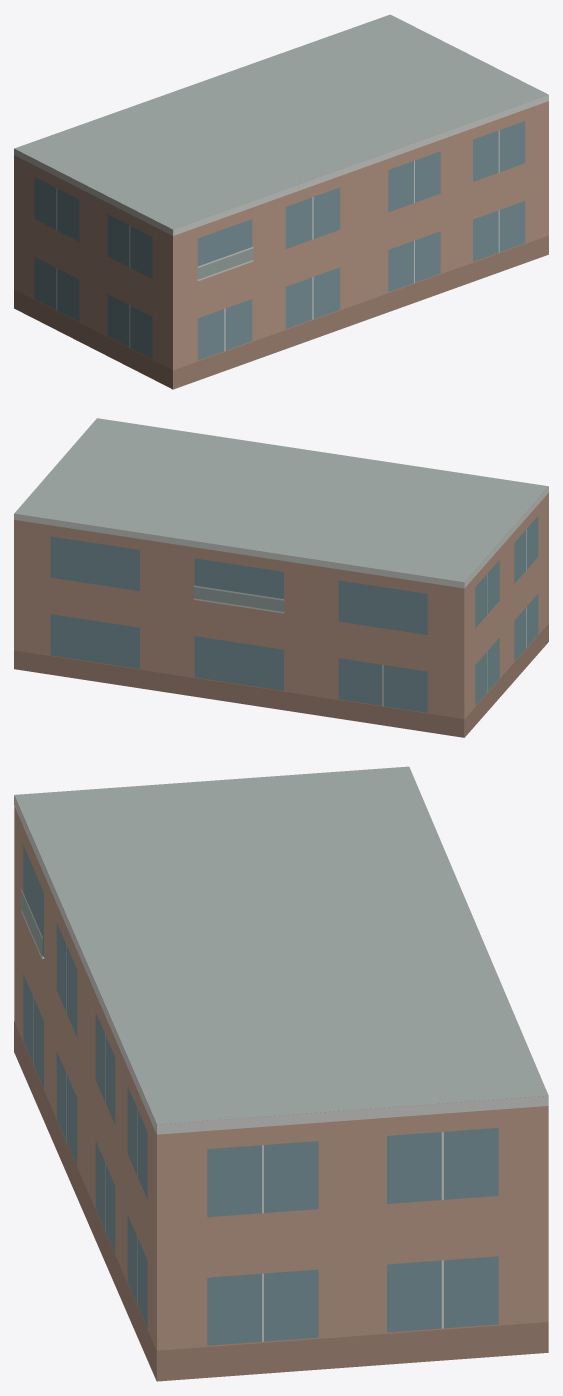
File: survey-upis-32944119.glb
3 renders of one model, top to bottom at view 1: azimuth 30°, elevation 25°; view 2: azimuth 150°, elevation 25°; view 3: azimuth 270°, elevation 25°, orthographic. The views are drawn at different scales.
Parts seen in each view (by area): view 1: survey-upis-32944119.tmp; view 2: survey-upis-32944119.tmp; view 3: survey-upis-32944119.tmp.
Part boxes in pixels (<box>): survey-upis-32944119.tmp: <box>14,14,548,389</box>; survey-upis-32944119.tmp: <box>14,418,548,737</box>; survey-upis-32944119.tmp: <box>14,766,548,1381</box>.
Bounding box in the file's own units: 18.23 × 6.1 × 11.51.
